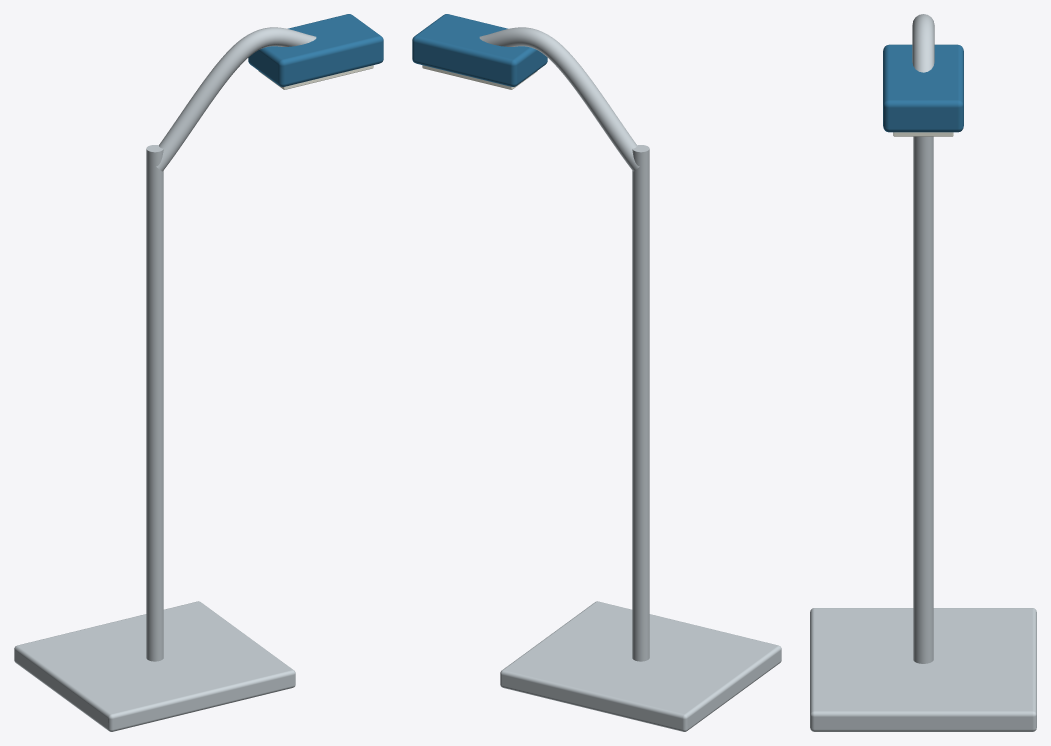
Rendered from curling-club-and-ice-maintenance-surface-inspection-la-222516ea__31297.glb.
3 renders of one model, left to right at view 1: azimuth 30°, elevation 25°; view 2: azimuth 150°, elevation 25°; view 3: azimuth 270°, elevation 25°, orthographic. The views are drawn at different scales.
Visible parts, largest first — view 1: surface-inspection-lamp; view 2: surface-inspection-lamp; view 3: surface-inspection-lamp.
Part boxes in pixels (x1,y1,x2,y2): surface-inspection-lamp: (14,14,383,731); surface-inspection-lamp: (412,14,781,731); surface-inspection-lamp: (810,14,1036,731).
Bounding box in the file's own units: 0.82 × 1.58 × 0.45.
